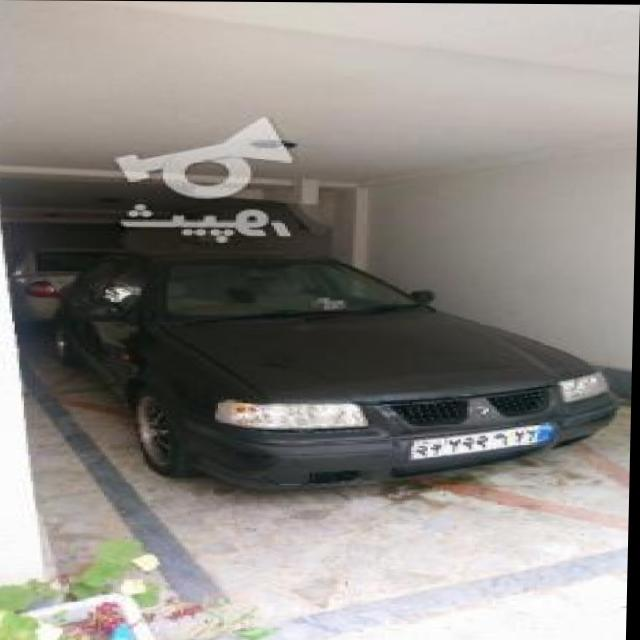licence: (413, 419, 561, 463)
